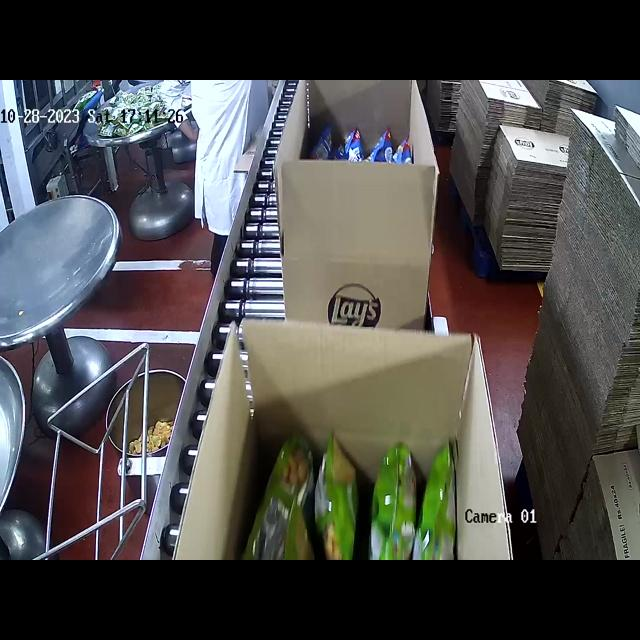paprika: (312, 123, 425, 169)
yogurt: (257, 422, 459, 560)
